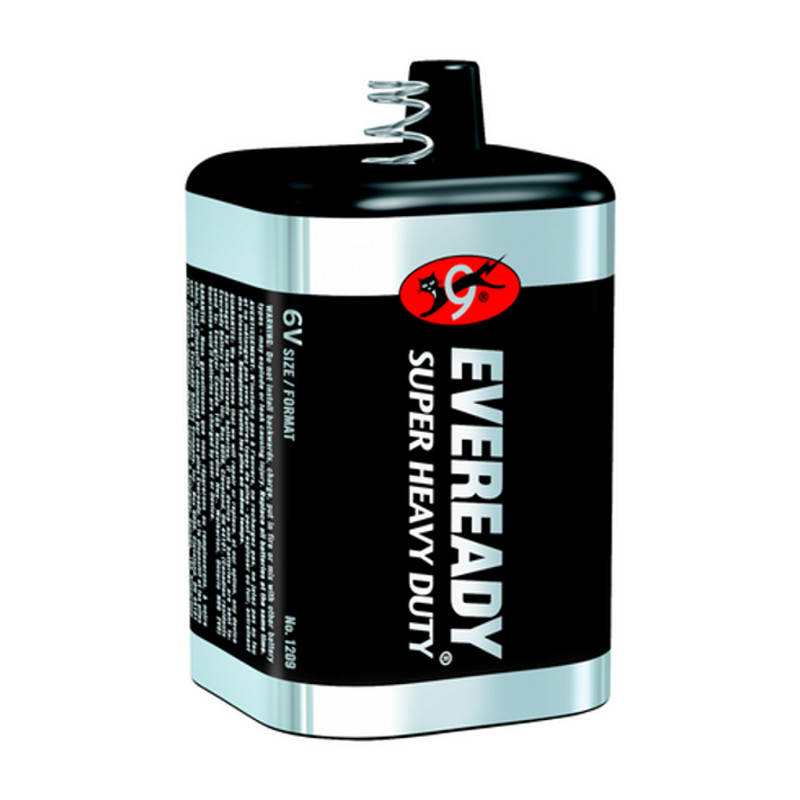6V: (170, 53, 641, 752)
